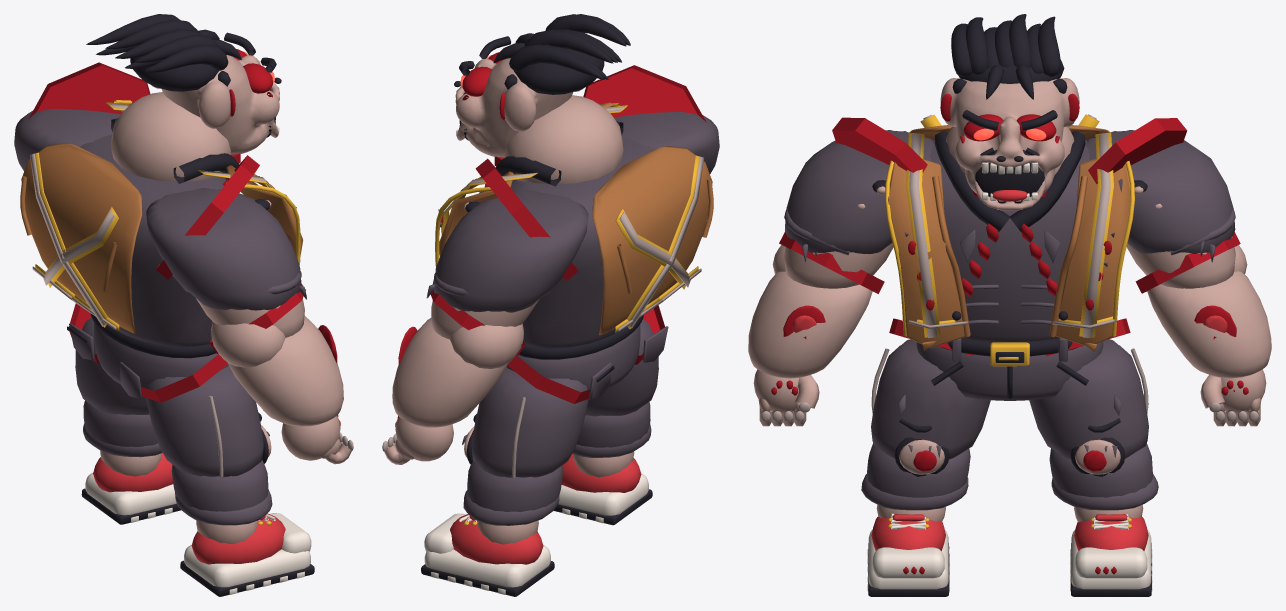
Rendered from inf.brute.glb.
3 renders of one model, left to right at view 1: azimuth 30°, elevation 25°; view 2: azimuth 150°, elevation 25°; view 3: azimuth 270°, elevation 25°, orthographic. The views are drawn at different scales.
Visible parts, largest first — view 1: torso, armR, head, foreArmR, legR, footR, shinR, hip, footL, shinL, stump_armL, armL (+5 smaller); view 2: torso, armL, head, foreArmL, legL, footL, shinL, hip, footR, shinR, stump_armR, armR (+5 smaller); view 3: torso, head, armL, armR, legR, legL, foreArmL, foreArmR, hip, footR, footL, shinR (+7 smaller).
Part boxes in pixels (<box>): torso: <box>20,92,303,346</box>; armR: <box>146,188,306,337</box>; head: <box>86,14,281,154</box>; foreArmR: <box>211,316,343,426</box>; legR: <box>146,366,271,477</box>; footR: <box>180,513,314,596</box>; shinR: <box>171,460,272,544</box>; hip: <box>67,313,228,399</box>; footL: <box>81,453,181,524</box>; shinL: <box>83,400,162,476</box>; stump_armL: <box>28,62,150,119</box>; armL: <box>14,109,120,171</box>; torso: <box>435,95,713,348</box>; armL: <box>426,190,588,339</box>; head: <box>454,14,630,157</box>; foreArmL: <box>392,318,523,427</box>; legL: <box>462,367,588,477</box>; footL: <box>421,513,554,596</box>; shinL: <box>463,461,562,544</box>; hip: <box>506,315,668,399</box>; footR: <box>553,454,652,525</box>; shinR: <box>572,402,651,477</box>; stump_armR: <box>583,65,706,122</box>; armR: <box>614,111,719,173</box>; torso: <box>885,114,1134,351</box>; head: <box>940,14,1079,210</box>; armL: <box>1085,130,1235,288</box>; armR: <box>784,130,934,288</box>; legR: <box>871,339,990,476</box>; legL: <box>1029,339,1148,476</box>; foreArmL: <box>1147,245,1271,378</box>; foreArmR: <box>748,245,872,378</box>; hip: <box>916,337,1103,400</box>; footR: <box>867,513,949,596</box>; footL: <box>1070,514,1152,596</box>; shinR: <box>861,443,970,522</box>.
Size of the model in its own units: 0.956 by 2.2 by 1.96.
